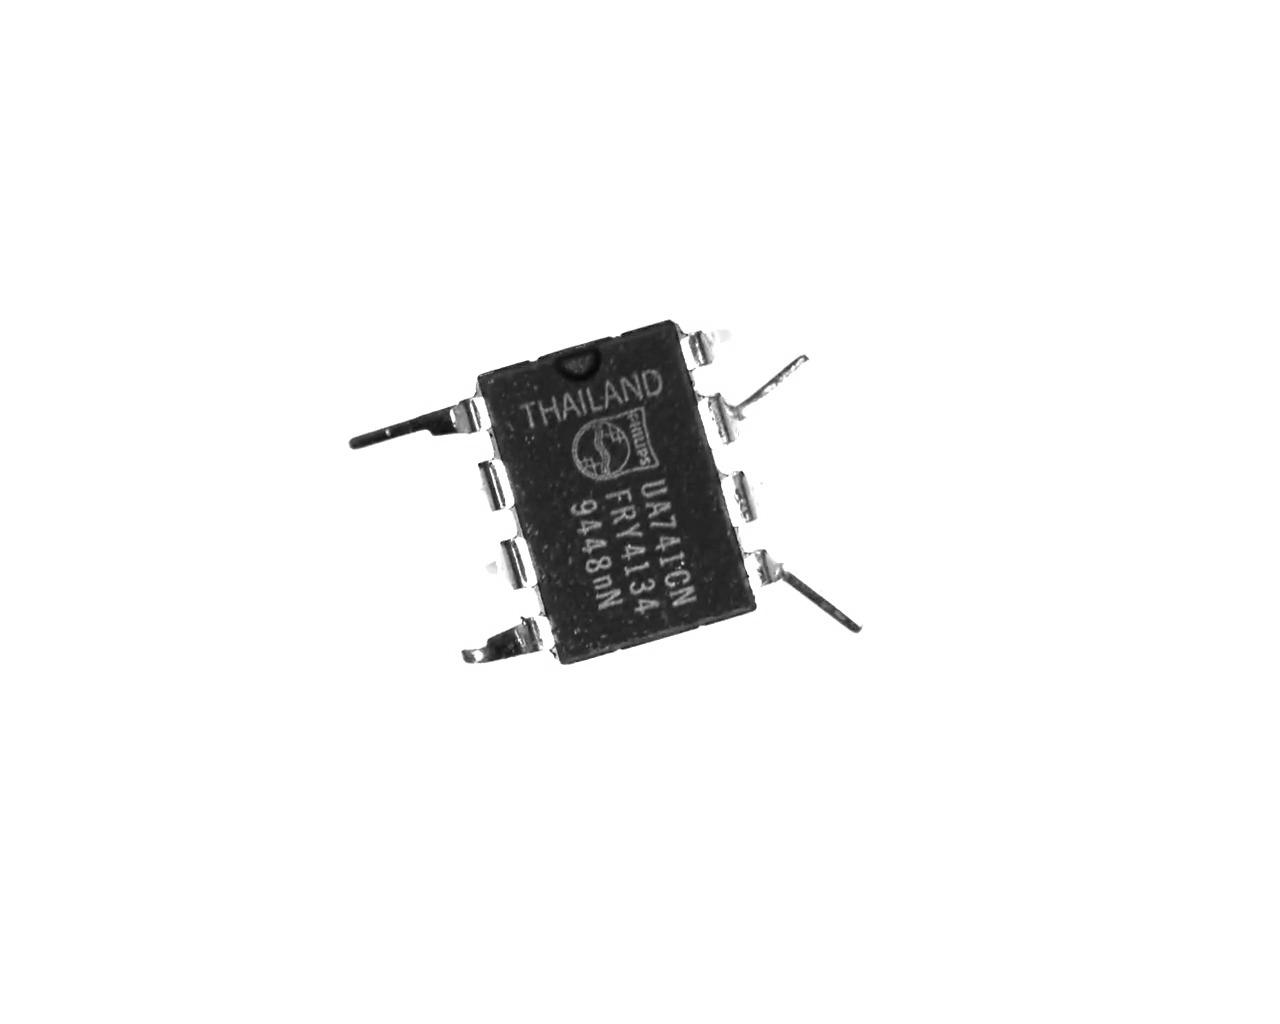Leg: (696, 349, 818, 448), (745, 544, 864, 639), (346, 390, 493, 457), (446, 607, 559, 666), (472, 530, 539, 596), (714, 458, 770, 526), (686, 324, 736, 370), (472, 459, 513, 511)
